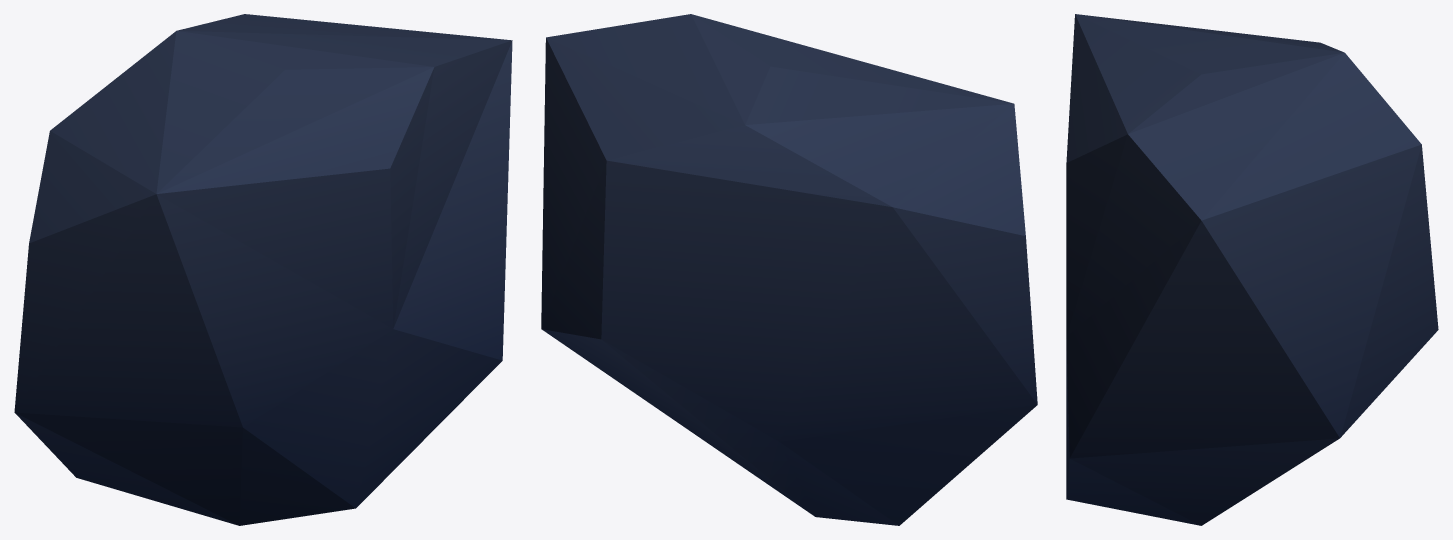
Rendered from Spike_2.glb.
The picture shows the model from 3 angles, left to right: view 1: azimuth 30°, elevation 25°; view 2: azimuth 150°, elevation 25°; view 3: azimuth 270°, elevation 25°; orthographic projection. The views are drawn at different scales.
Visible parts, largest first — view 1: lamplighter__Spike_2__stone; view 2: lamplighter__Spike_2__stone; view 3: lamplighter__Spike_2__stone.
Part boxes in pixels (x1,y1,x2,y2): lamplighter__Spike_2__stone: (14,14,512,525); lamplighter__Spike_2__stone: (541,14,1037,525); lamplighter__Spike_2__stone: (1066,14,1438,525).
Bounding box in the file's own units: 0.62 × 0.5294 × 0.3756.
